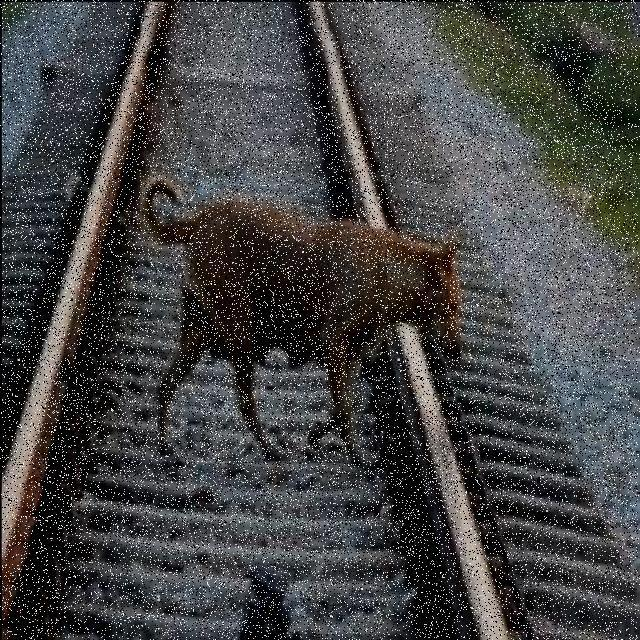danger: (132, 148, 462, 497)
rail: (3, 0, 638, 640)
